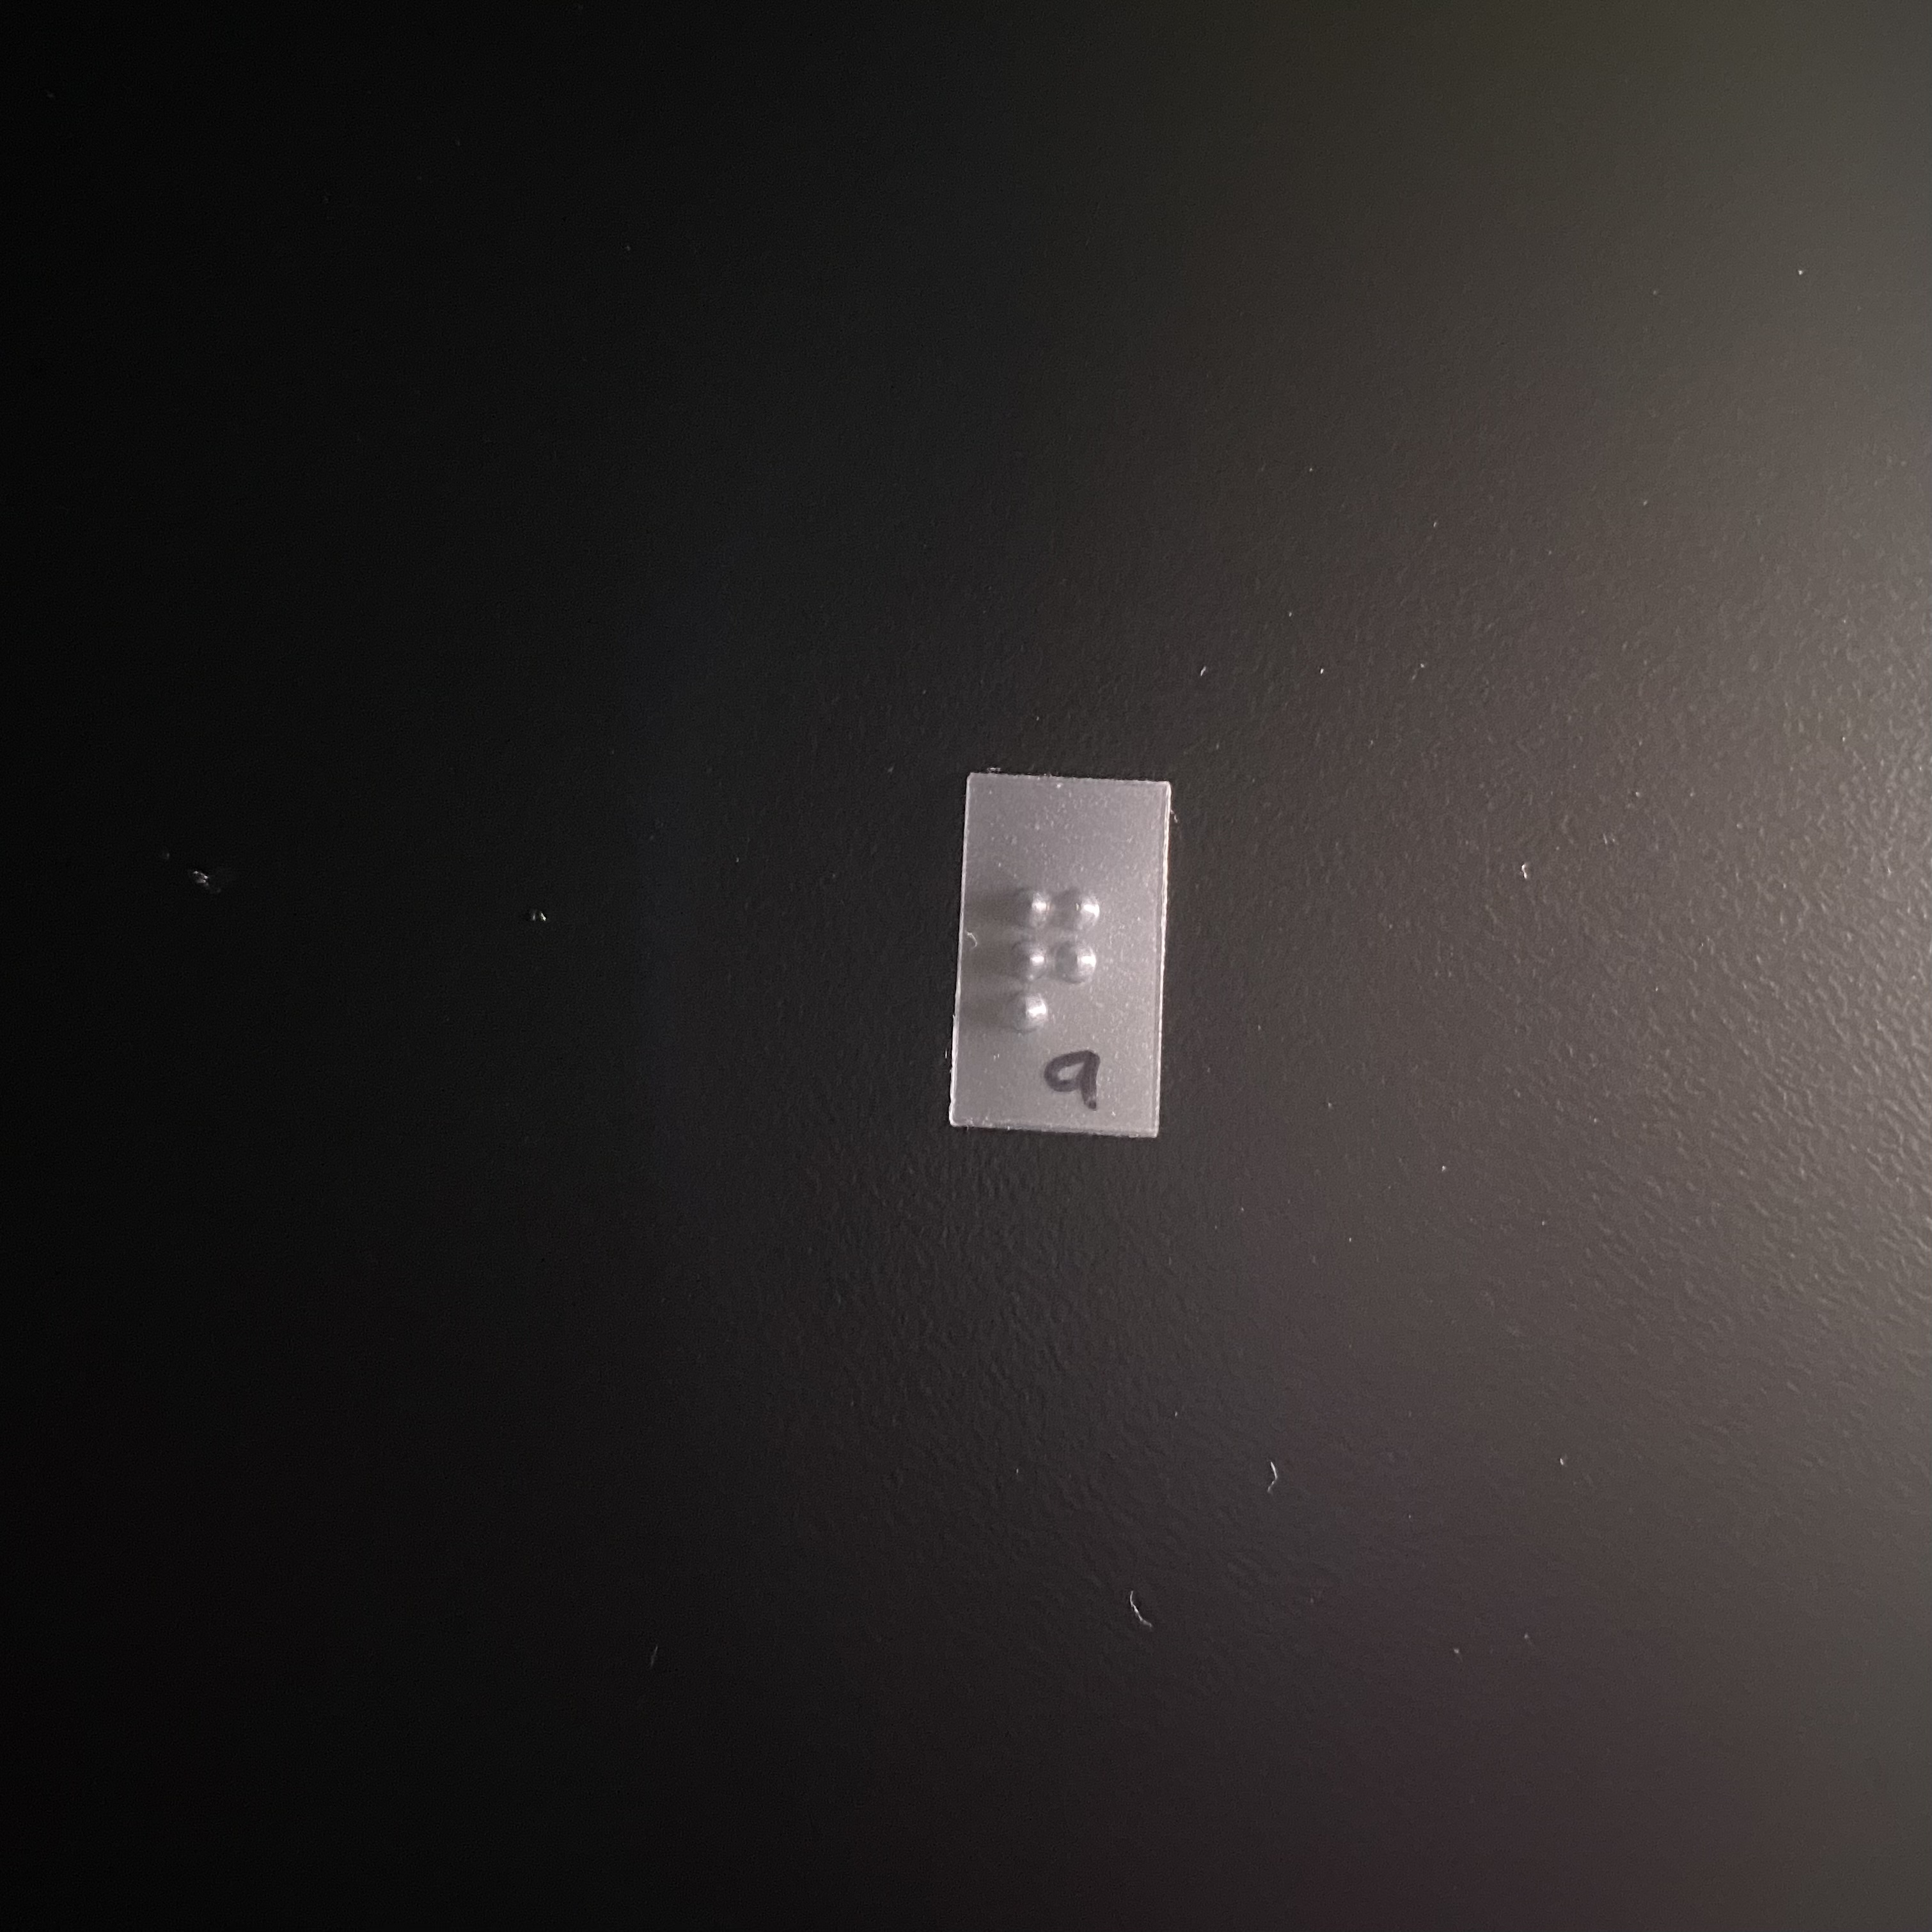q: (984, 883, 1111, 1035)
